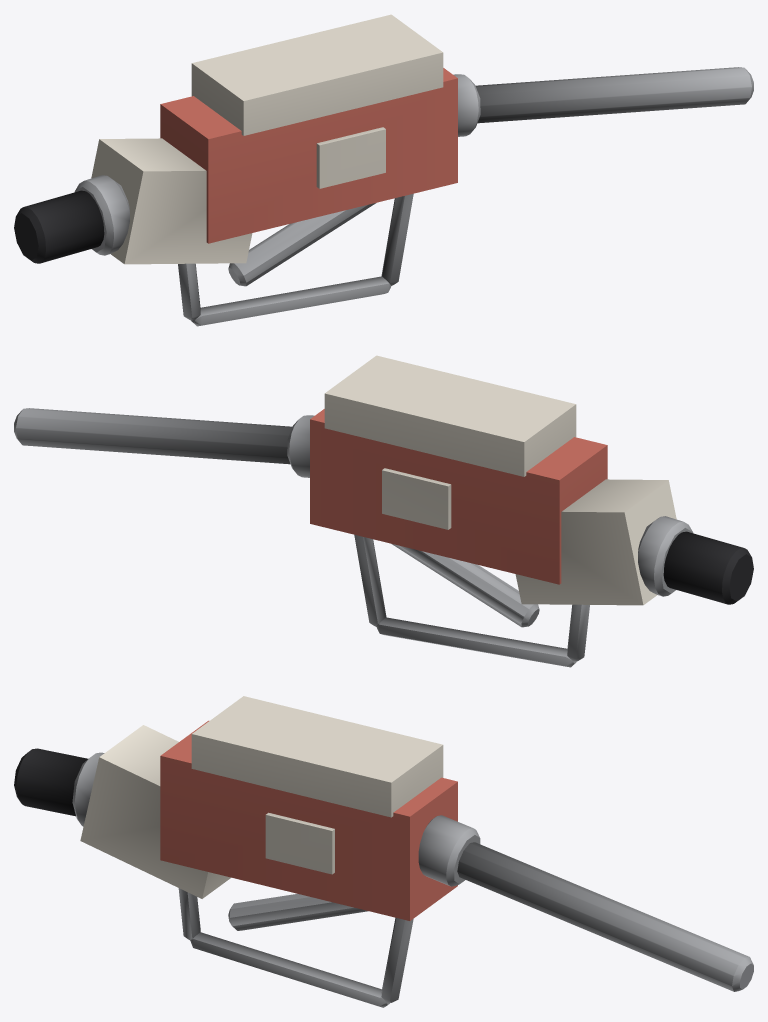
File: nd_nozzle.glb
The picture shows the model from 3 angles, top to bottom: view 1: azimuth 30°, elevation 25°; view 2: azimuth 150°, elevation 25°; view 3: azimuth 330°, elevation 25°; orthographic projection.
Visible parts, largest first — view 1: PART; view 2: PART; view 3: PART.
Part boxes in pixels (left/top/right/bottom): PART: left=14, top=14, right=753, bottom=326; PART: left=14, top=355, right=753, bottom=667; PART: left=14, top=696, right=753, bottom=1007.
Bounding box in the file's own units: 0.4346 × 0.145 × 0.056.
